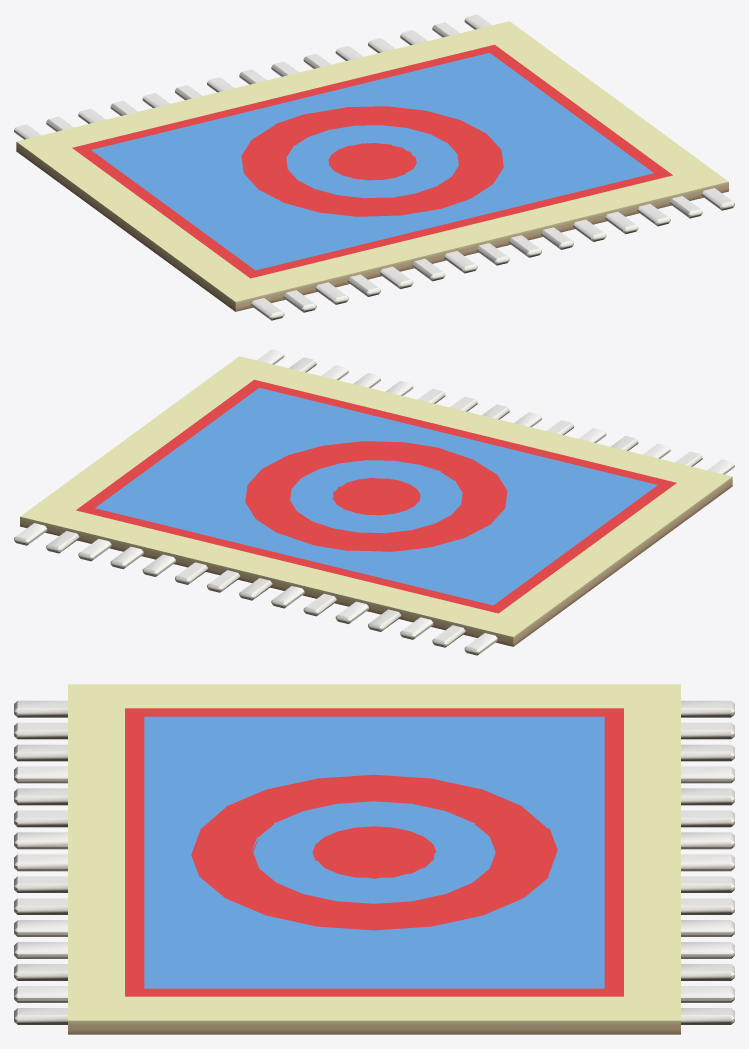
Rendered from rug_blue.glb.
The picture shows the model from 3 angles, top to bottom: view 1: azimuth 30°, elevation 25°; view 2: azimuth 150°, elevation 25°; view 3: azimuth 270°, elevation 25°; orthographic projection. The views are drawn at different scales.
Visible parts, largest first — view 1: Item; view 2: Item; view 3: Item.
Part boxes in pixels (x1,y1,x2,y2): Item: [14, 14, 734, 320]; Item: [14, 349, 734, 655]; Item: [14, 684, 734, 1034].
Bounding box in the file's own units: 2.61 × 0.05 × 2.36.
Materials: 1 (1 with a texture image).
